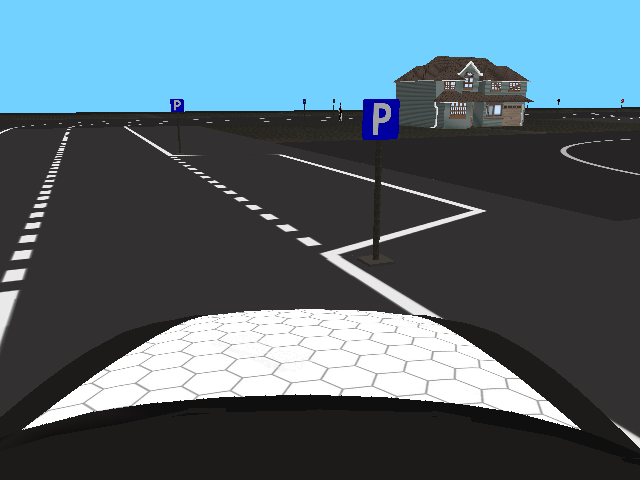parking: (363, 99, 400, 139), (169, 98, 185, 114)
